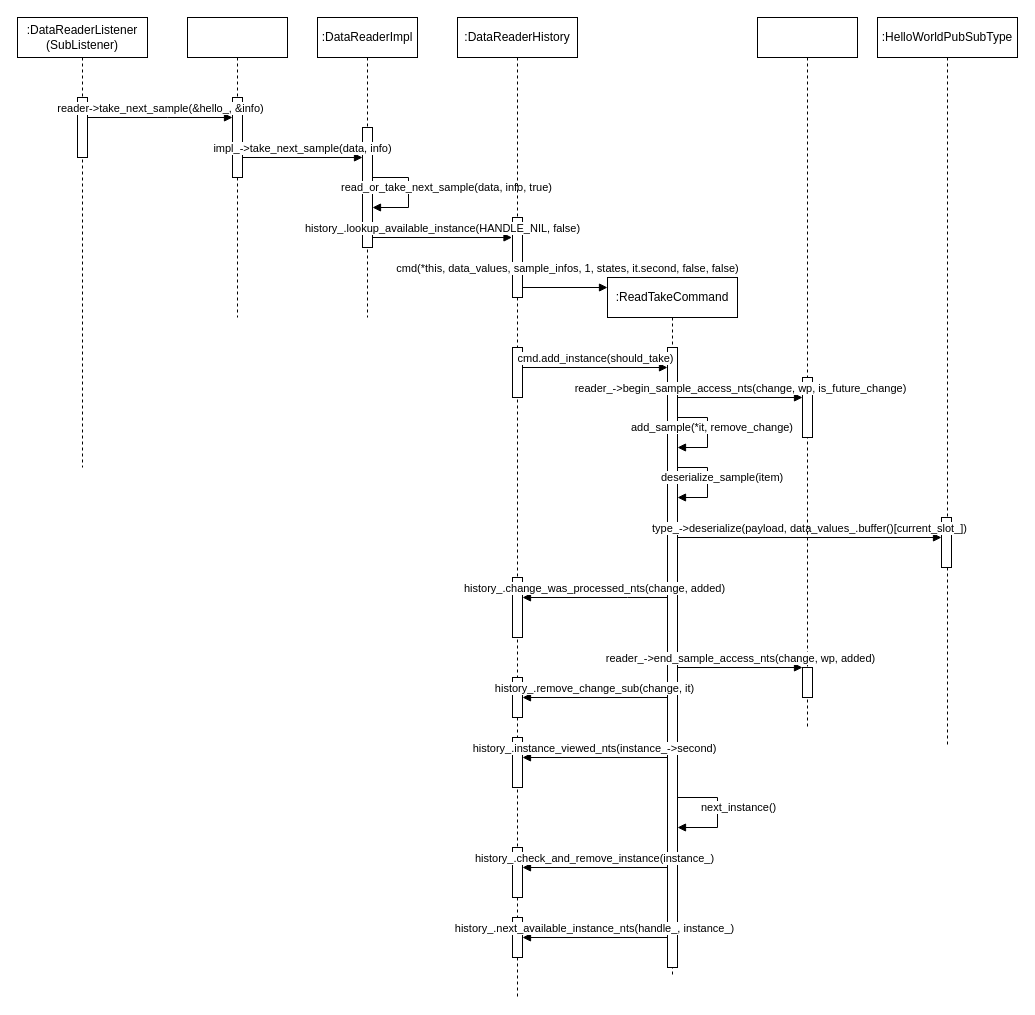
Image size: 1035x1015. Some labels were removed from this diagram. The shapes that lost their labels are listed below. From the top down, each one's box as (x1, y1, x2, y2) in pixels, then its label:
(186, 16, 288, 318): :DataReader
(756, 16, 858, 728): :StatelessReader
